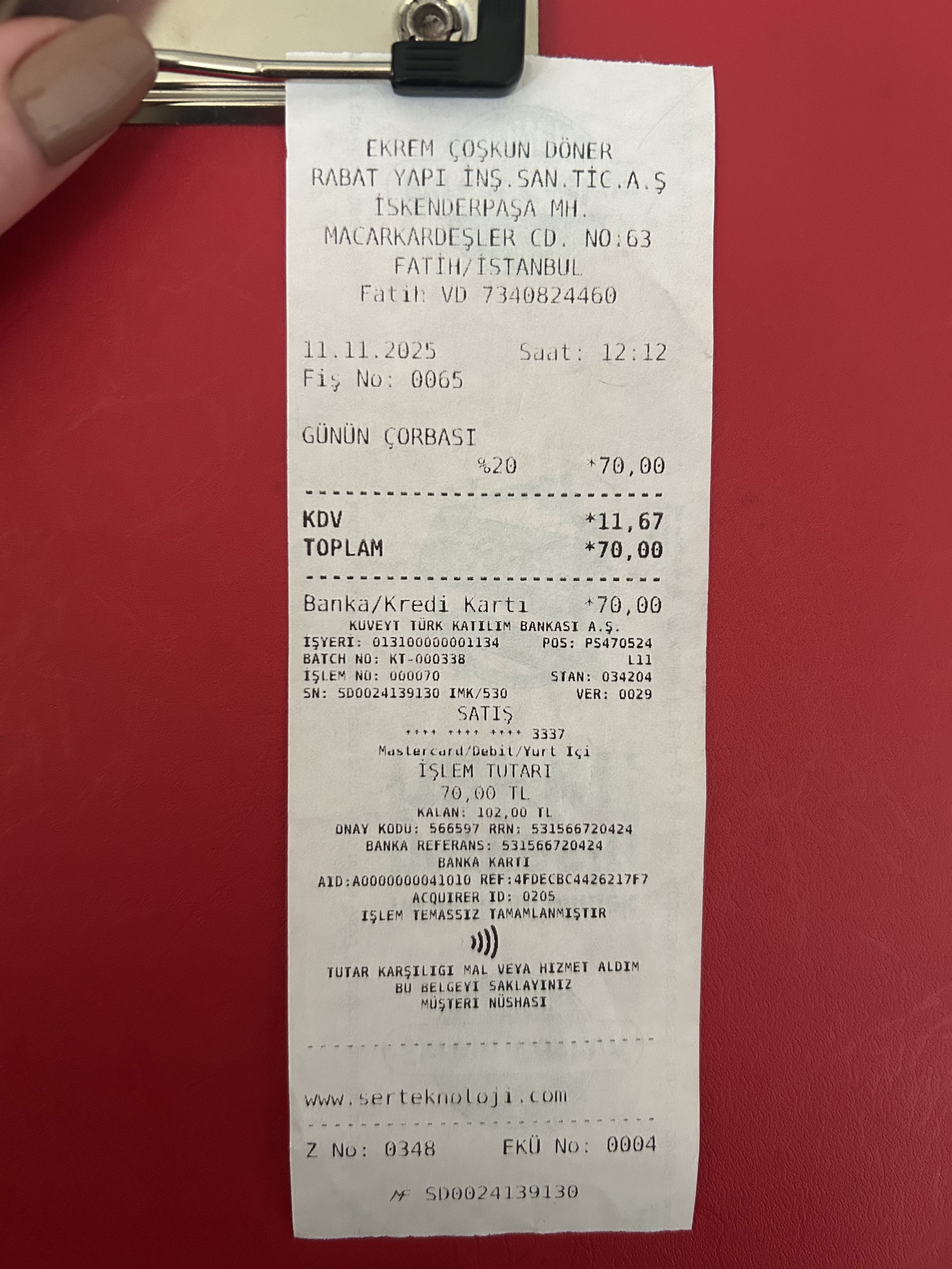date: (297, 332, 440, 364)
price: (594, 536, 669, 567)
workplace: (301, 128, 680, 282)
